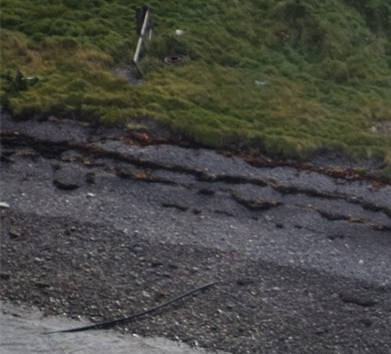tube: (123, 280, 212, 321), (40, 316, 121, 339)
white_in_green: (159, 14, 205, 50)
